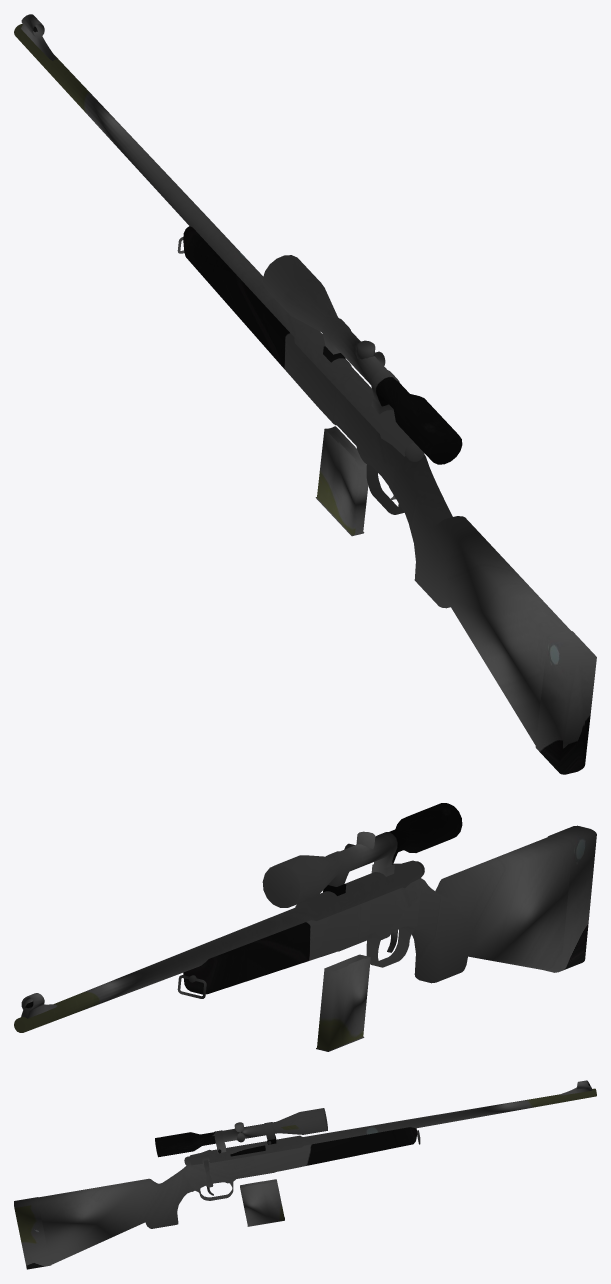
The model's file is sniper.glb.
The picture shows the model from 3 angles, top to bottom: view 1: azimuth 30°, elevation 25°; view 2: azimuth 150°, elevation 25°; view 3: azimuth 270°, elevation 25°; orthographic projection. The views are drawn at different scales.
Visible parts, largest first — view 1: Stock, Barrel, Scope, Magazine; view 2: Stock, Barrel, Scope, Magazine, IronSight; view 3: Stock, Barrel, Scope, Magazine, Bolt.
Boxes of the visible parts, bbox=[...] form: Stock: bbox=[183, 226, 596, 774]; Barrel: bbox=[14, 24, 414, 514]; Scope: bbox=[262, 255, 462, 464]; Magazine: bbox=[315, 426, 368, 536]; Stock: bbox=[183, 825, 596, 994]; Barrel: bbox=[14, 860, 422, 1032]; Scope: bbox=[262, 803, 462, 907]; Magazine: bbox=[316, 954, 370, 1051]; IronSight: bbox=[21, 993, 57, 1018]; Stock: bbox=[14, 1127, 417, 1269]; Barrel: bbox=[190, 1088, 596, 1200]; Scope: bbox=[155, 1108, 327, 1157]; Magazine: bbox=[240, 1179, 284, 1226]; Bolt: bbox=[184, 1145, 265, 1187].
Size of the model in its own units: 0.0568 by 0.3966 by 1.12.
1 material, 1 textured.
